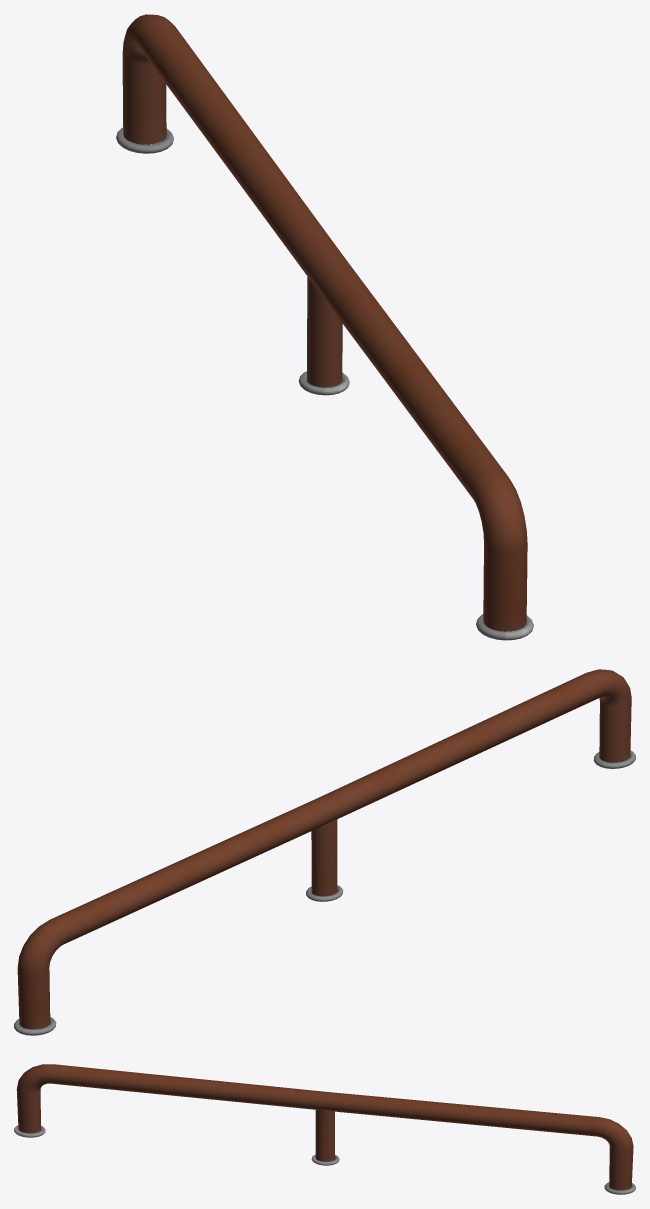
File: SM_075_Guardrail_02_3.fbx
3 renders of one model, top to bottom at view 1: azimuth 30°, elevation 25°; view 2: azimuth 150°, elevation 25°; view 3: azimuth 270°, elevation 25°, orthographic. The views are drawn at different scales.
Visible parts, largest first — view 1: SM_075_Guardrail_02_3; view 2: SM_075_Guardrail_02_3; view 3: SM_075_Guardrail_02_3.
Part boxes in pixels (box(x1,y1,x2,y2)): SM_075_Guardrail_02_3: box(116, 14, 533, 640); SM_075_Guardrail_02_3: box(14, 669, 635, 1035); SM_075_Guardrail_02_3: box(14, 1064, 635, 1194).
Bounding box in the file's own units: 45.31 × 174 × 21.74.
1 material, 1 textured.
